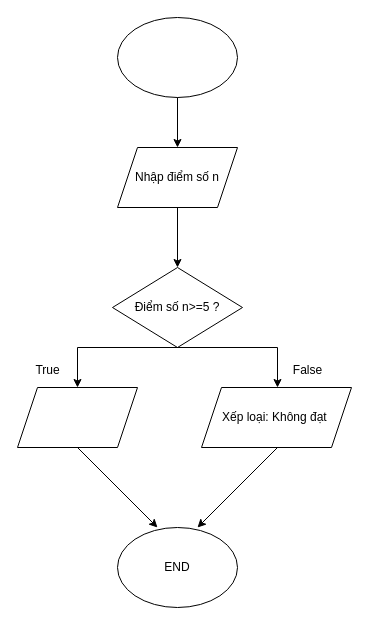
Some shapes in this 369 by 625 pixel diagram are drawn without their labels. The box of each missing label's shape, as (x1, y1, x2, y2) in pixels:
START: (116, 16, 238, 98)
Xếp loại: Đạt: (16, 386, 138, 448)
